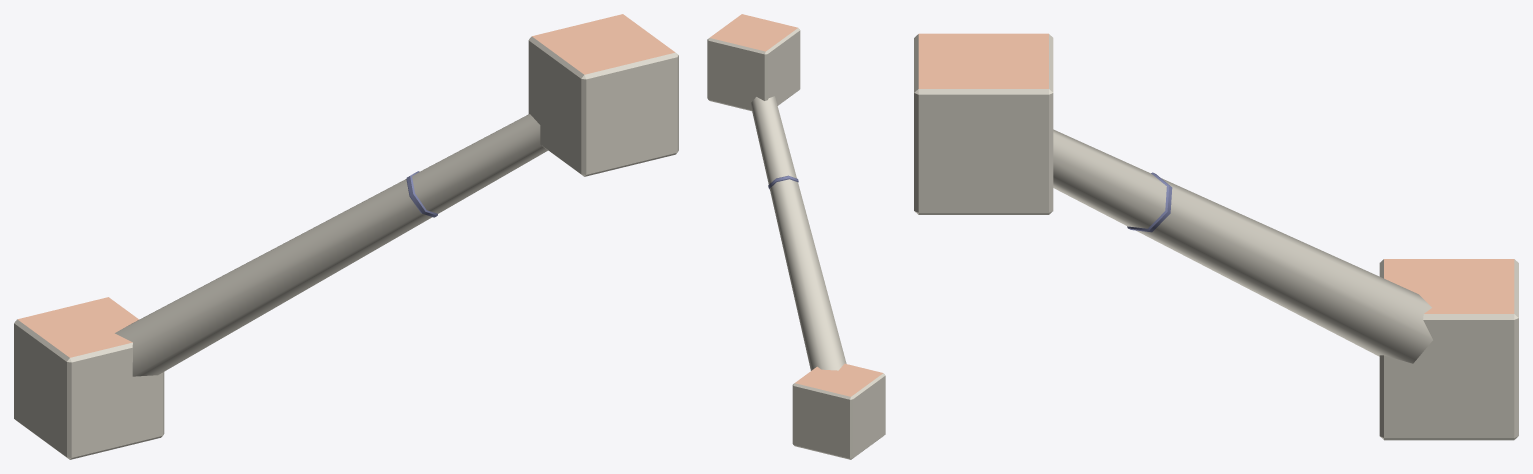
The model's file is R4C_ROD_DIAG_3D_LOD1.fbx.
3 views of the same model, side by side, from view 1: azimuth 30°, elevation 25°; view 2: azimuth 150°, elevation 25°; view 3: azimuth 270°, elevation 25° (orthographic). The views are drawn at different scales.
Visible parts, largest first — view 1: R4C_ROD_DIAG_3D_LOD1; view 2: R4C_ROD_DIAG_3D_LOD1; view 3: R4C_ROD_DIAG_3D_LOD1.
Part boxes in pixels (x1,y1,x2,y2): R4C_ROD_DIAG_3D_LOD1: (14, 14, 678, 459); R4C_ROD_DIAG_3D_LOD1: (707, 14, 885, 459); R4C_ROD_DIAG_3D_LOD1: (914, 33, 1518, 440).
Bounding box in the file's own units: 1.62 × 1.62 × 1.62.
